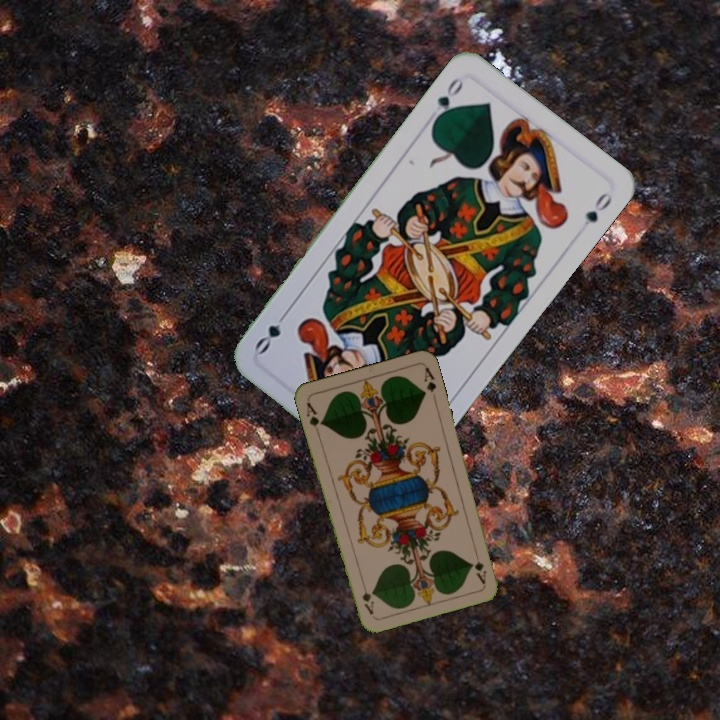GA: (302, 398, 325, 437), (470, 546, 489, 586)
GO: (429, 73, 466, 126)
